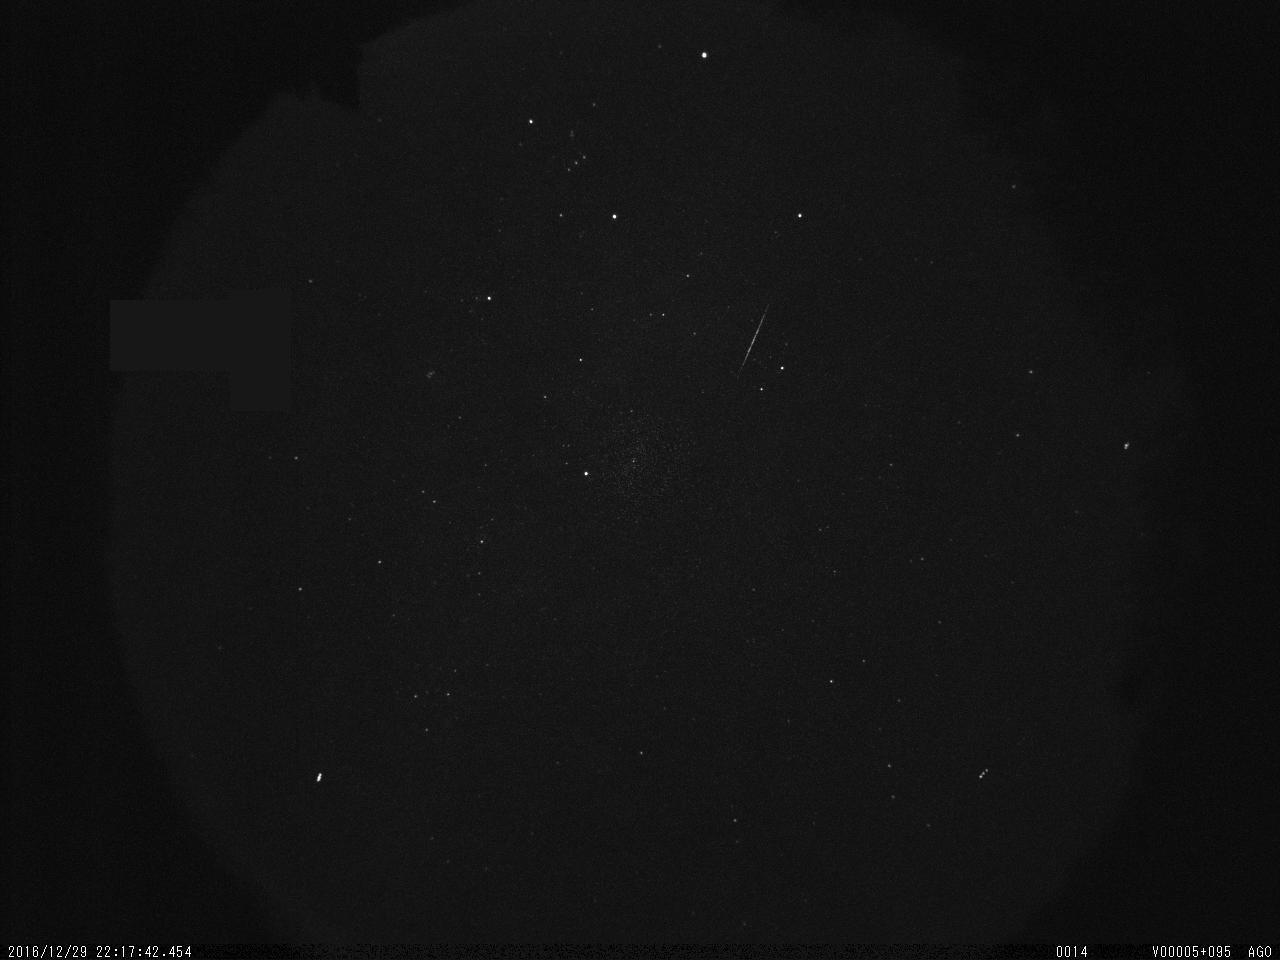meteor: (736, 305, 780, 383)
